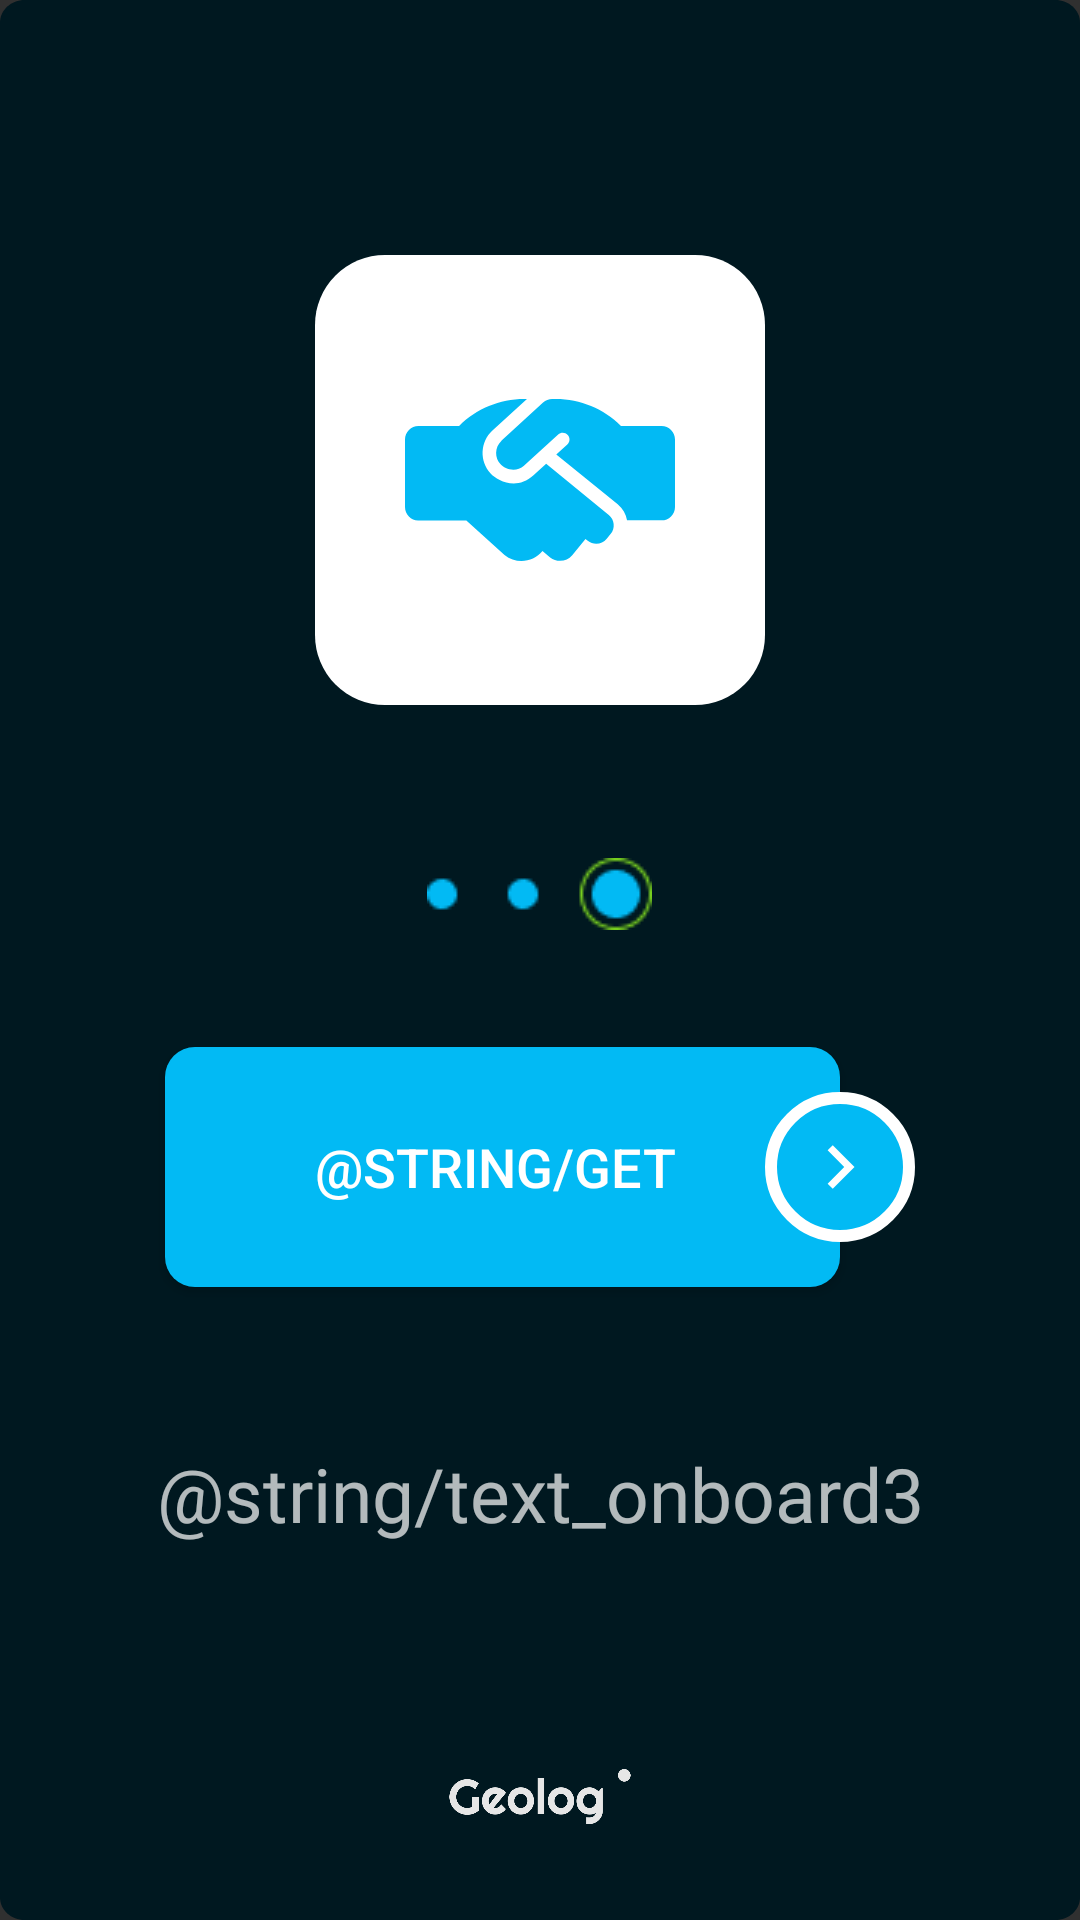

Named icons in this screenshot (1080w x 1920h) and their centers, (x=x, y=y):
handshake simple: (x=540, y=480)
